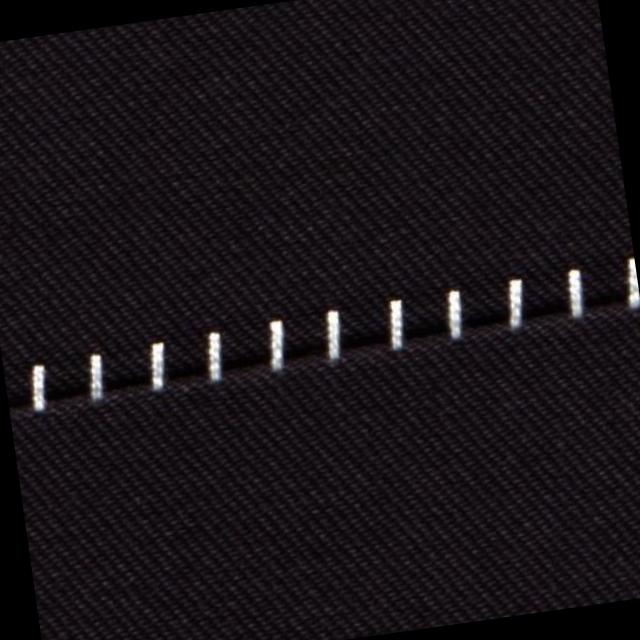gray stitch: (13, 249, 640, 421)
